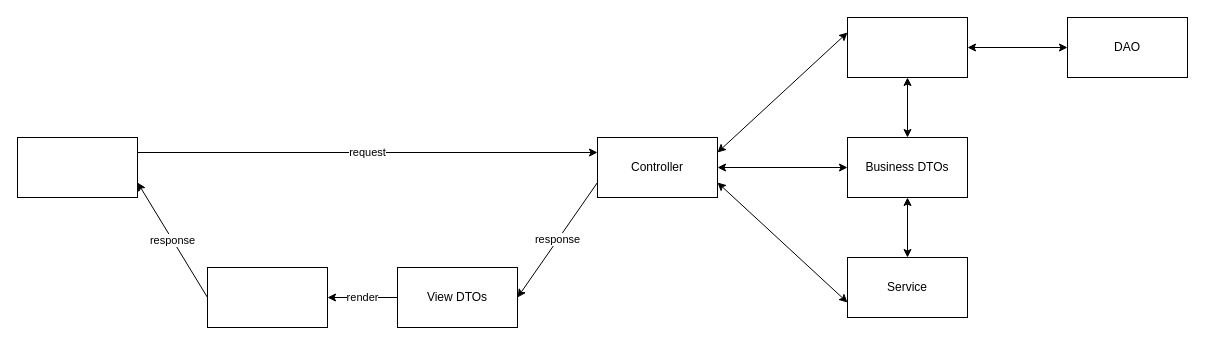
Image size: 1205x345. Some labels were removed from this diagram. Here are the shapes that lost their labels. From the top down, the centre of each, then its label:
At pixel 907 47: "Model".
At pixel 77 167: "Client".
At pixel 267 297: "View (JSP)".
